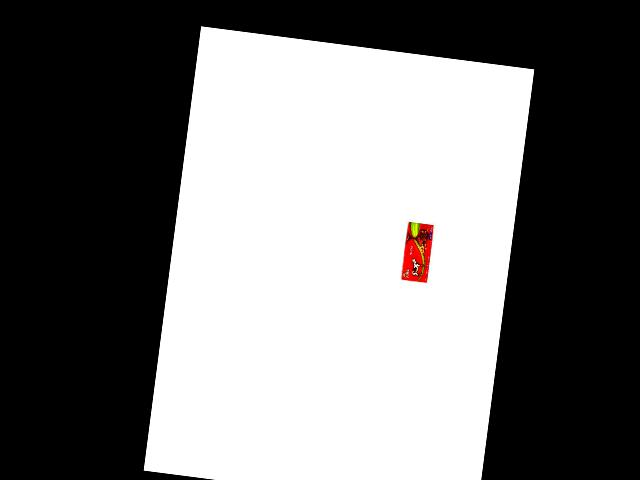chocolate: (398, 220, 439, 287)
